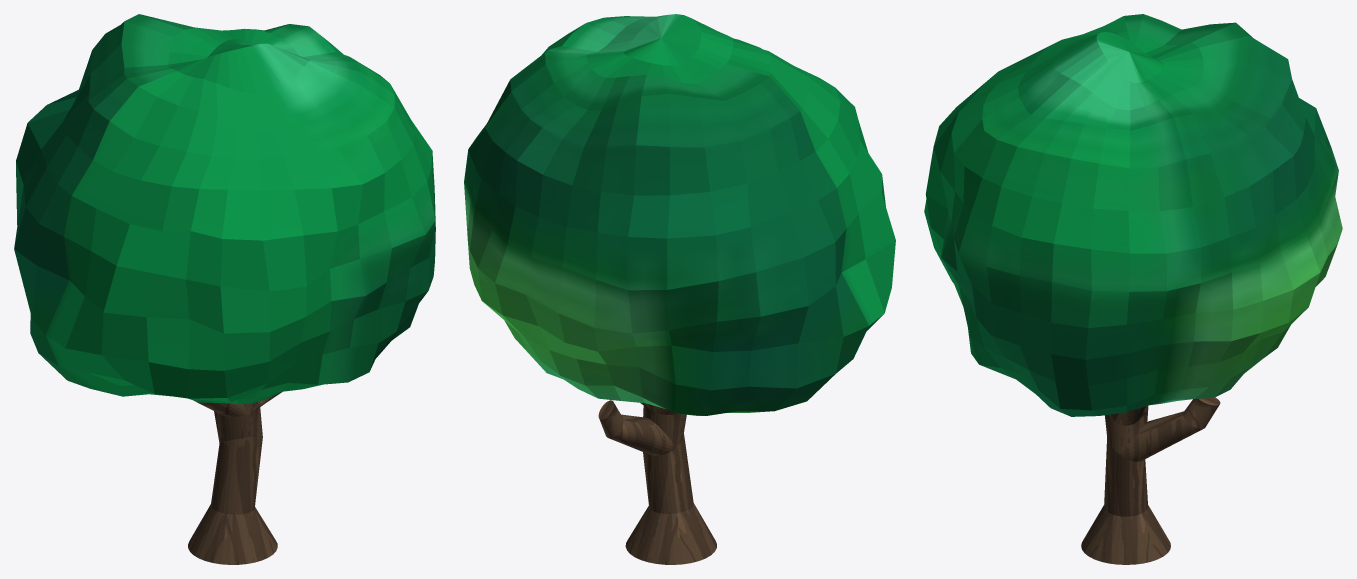
File: tree2.fbx
3 views of the same model, side by side, from view 1: azimuth 30°, elevation 25°; view 2: azimuth 150°, elevation 25°; view 3: azimuth 270°, elevation 25° (orthographic).
Parts seen in each view (by area): view 1: leafs2, tree2; view 2: leafs2, tree2; view 3: leafs2, tree2.
Part boxes in pixels (x1,y1,x2,y2): leafs2: (14,14,435,404); tree2: (188,391,282,564); leafs2: (464,14,895,415); tree2: (598,400,716,564); leafs2: (924,14,1342,416); tree2: (1081,397,1220,564).
Size of the model in its own units: 1961 by 2555 by 1901.
